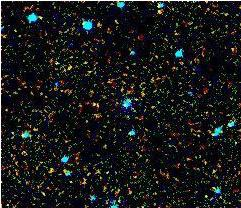star: (143, 0, 173, 27)
